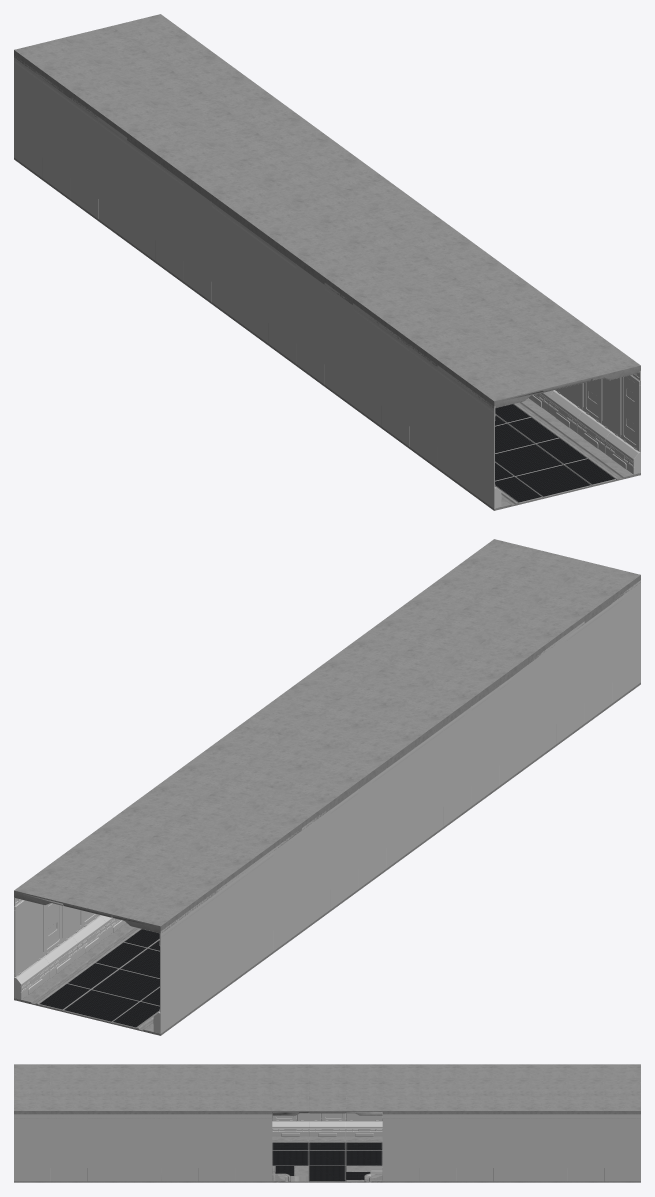
The model's file is Pasillo6Opti.fbx.
The picture shows the model from 3 angles, top to bottom: view 1: azimuth 30°, elevation 25°; view 2: azimuth 150°, elevation 25°; view 3: azimuth 270°, elevation 25°; orthographic projection. The views are drawn at different scales.
Parts seen in each view (by area): view 1: SM_Ceiling_Center__8_, SM_Wall_AA__3_, SM_Floor_Center__4_; view 2: SM_Ceiling_Center__8_, SM_Wall_AA__3_, SM_Floor_Center__4_; view 3: SM_Wall_AA__3_, SM_Ceiling_Center__8_, SM_Floor_Center__4_.
Boxes of the visible parts, bbox=[...] form: SM_Ceiling_Center__8_: bbox=[14, 14, 640, 408]; SM_Wall_AA__3_: bbox=[14, 56, 640, 508]; SM_Floor_Center__4_: bbox=[14, 157, 640, 510]; SM_Ceiling_Center__8_: bbox=[14, 539, 640, 933]; SM_Wall_AA__3_: bbox=[14, 580, 640, 1033]; SM_Floor_Center__4_: bbox=[14, 682, 640, 1035]; SM_Wall_AA__3_: bbox=[14, 1113, 640, 1181]; SM_Ceiling_Center__8_: bbox=[14, 1064, 640, 1115]; SM_Floor_Center__4_: bbox=[14, 1136, 640, 1182].
Bounding box in the file's own units: 60 × 42.8 × 340.
